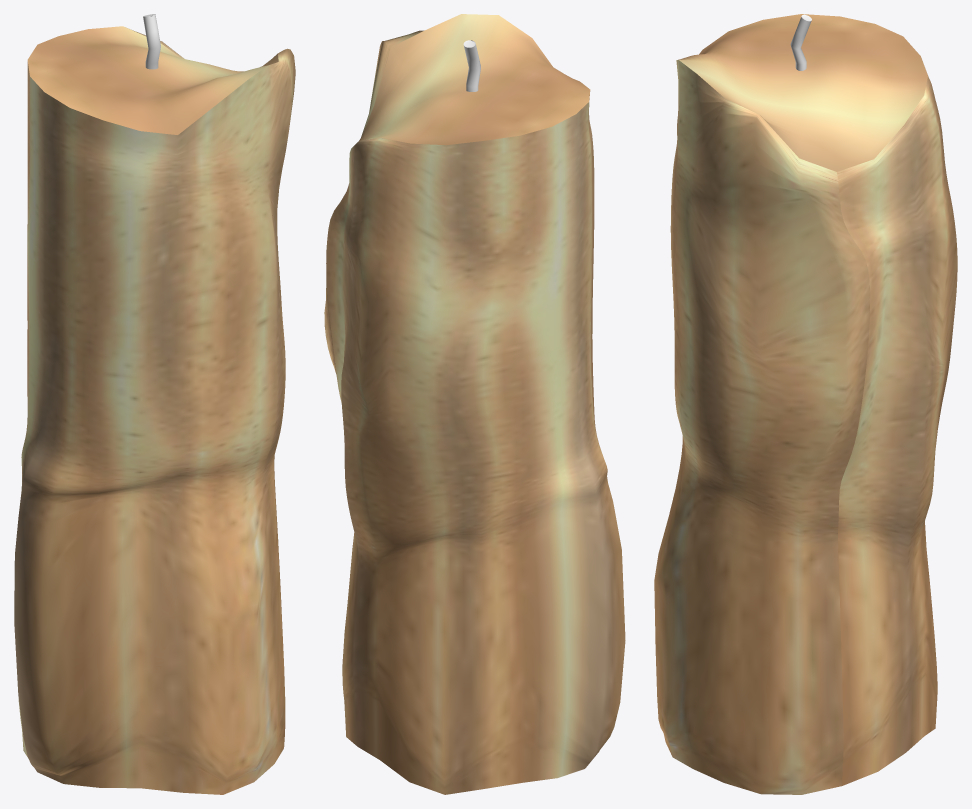
The model's file is Candle-1.fbx.
3 renders of one model, left to right at view 1: azimuth 30°, elevation 25°; view 2: azimuth 150°, elevation 25°; view 3: azimuth 270°, elevation 25°, orthographic. The views are drawn at different scales.
Visible parts, largest first — view 1: pCylinder1, pCylinder2; view 2: pCylinder1, pCylinder2; view 3: pCylinder1, pCylinder2.
Boxes of the visible parts, <box> form: pCylinder1: <box>14,26,295,794</box>; pCylinder2: <box>143,14,160,69</box>; pCylinder1: <box>324,14,625,794</box>; pCylinder2: <box>463,40,480,91</box>; pCylinder1: <box>654,14,957,794</box>; pCylinder2: <box>790,14,811,70</box>.
Bounding box in the file's own units: 176 × 456 × 173.
2 materials, 1 textured.
